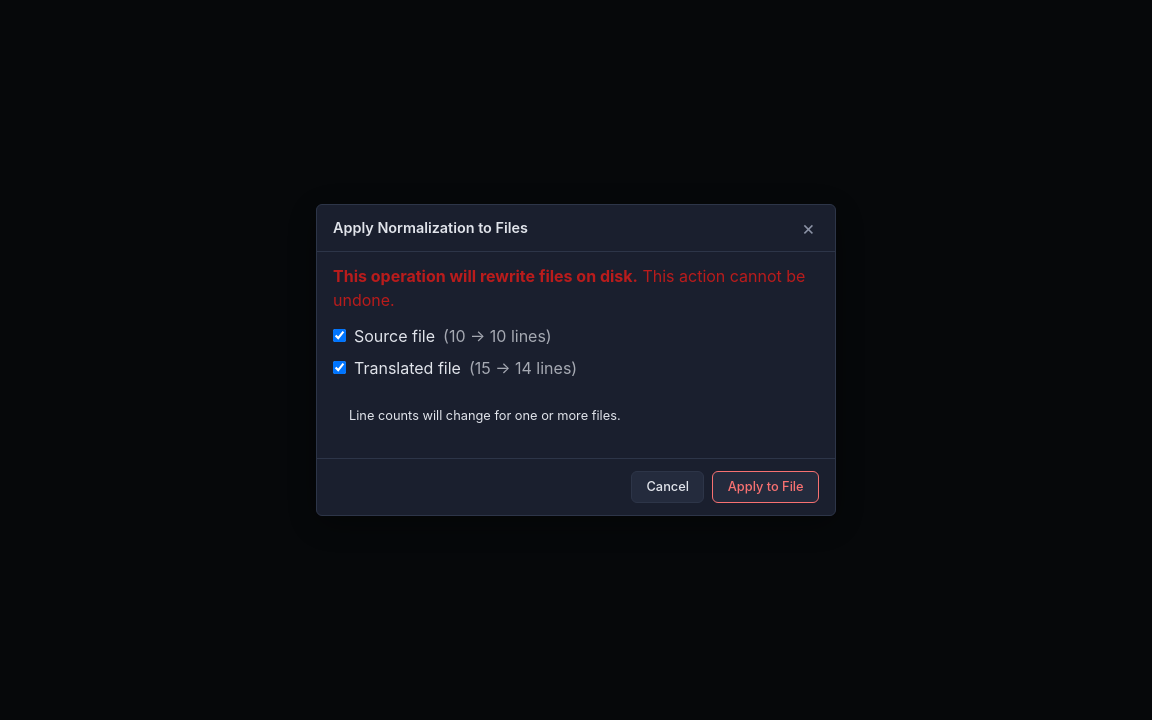
Scenario: ApplyConfirmationModal › shows Apply to File button disabled during loading
Click the button "Apply to File" at [766, 487], box [712,471,819,503]
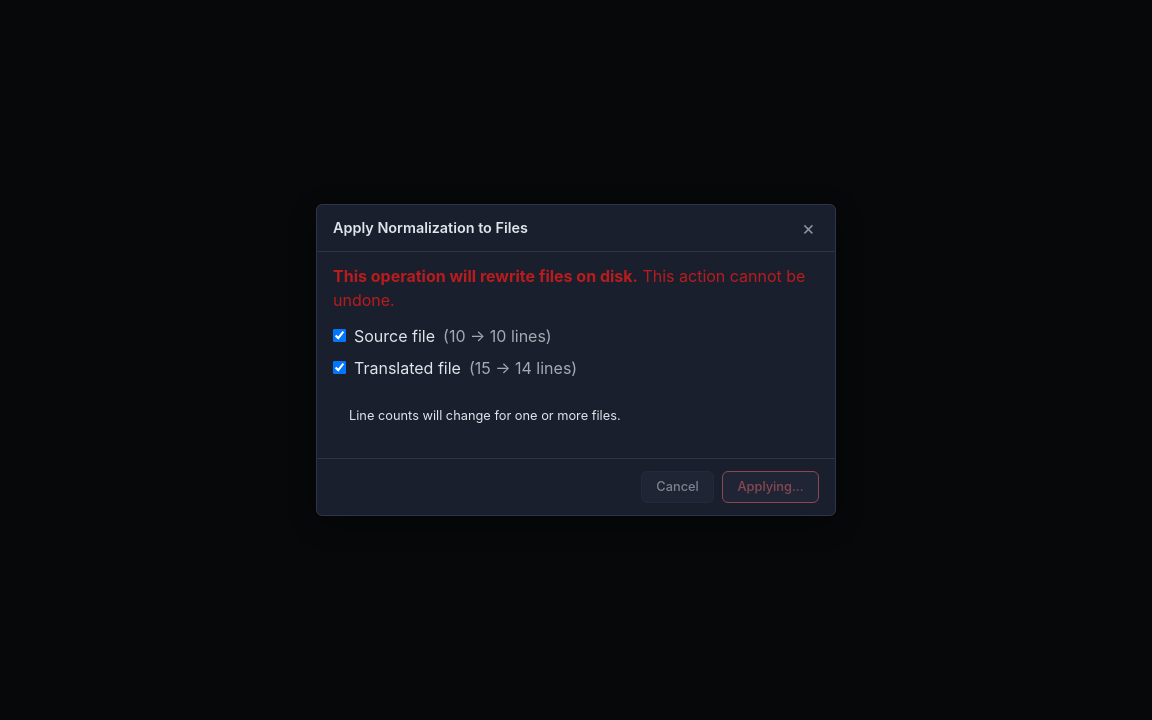
expect the button "Applying..." is disabled: met, box [722,471,819,503]
